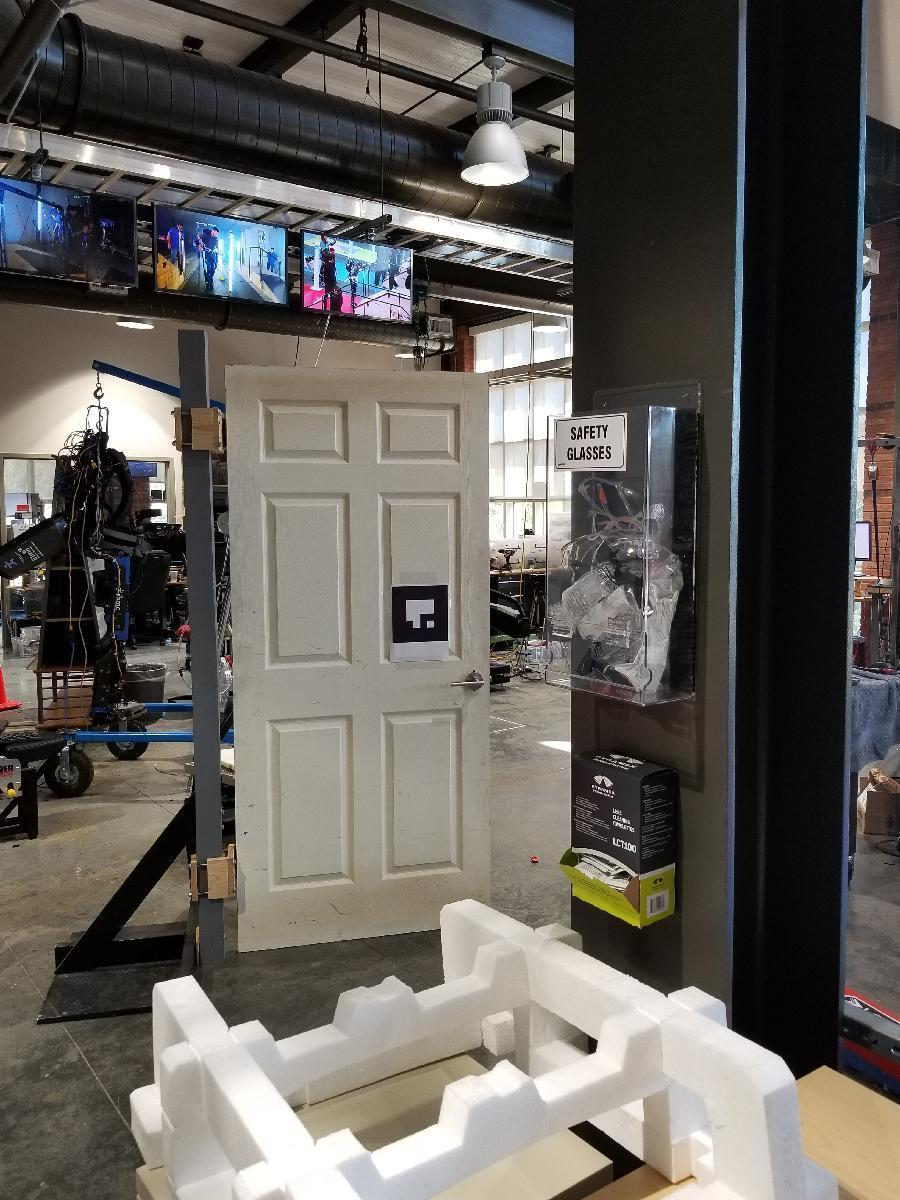door: (225, 363, 492, 943)
handle: (448, 668, 486, 695)
